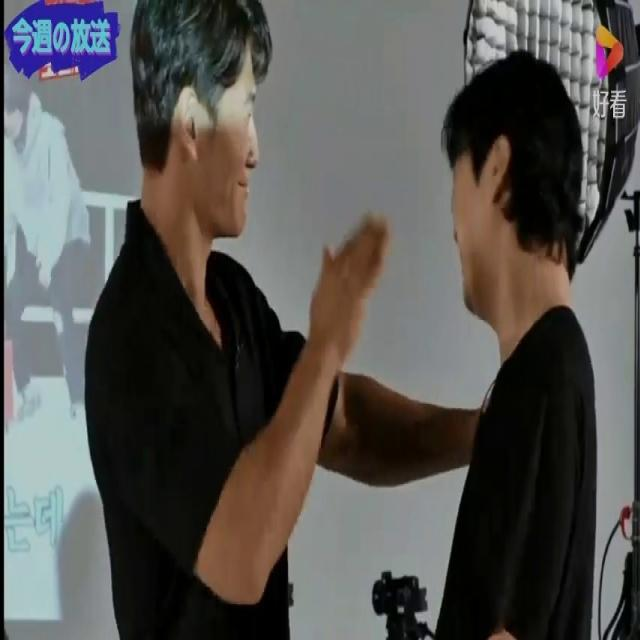non-fight: (52, 1, 482, 638), (435, 46, 595, 640)
